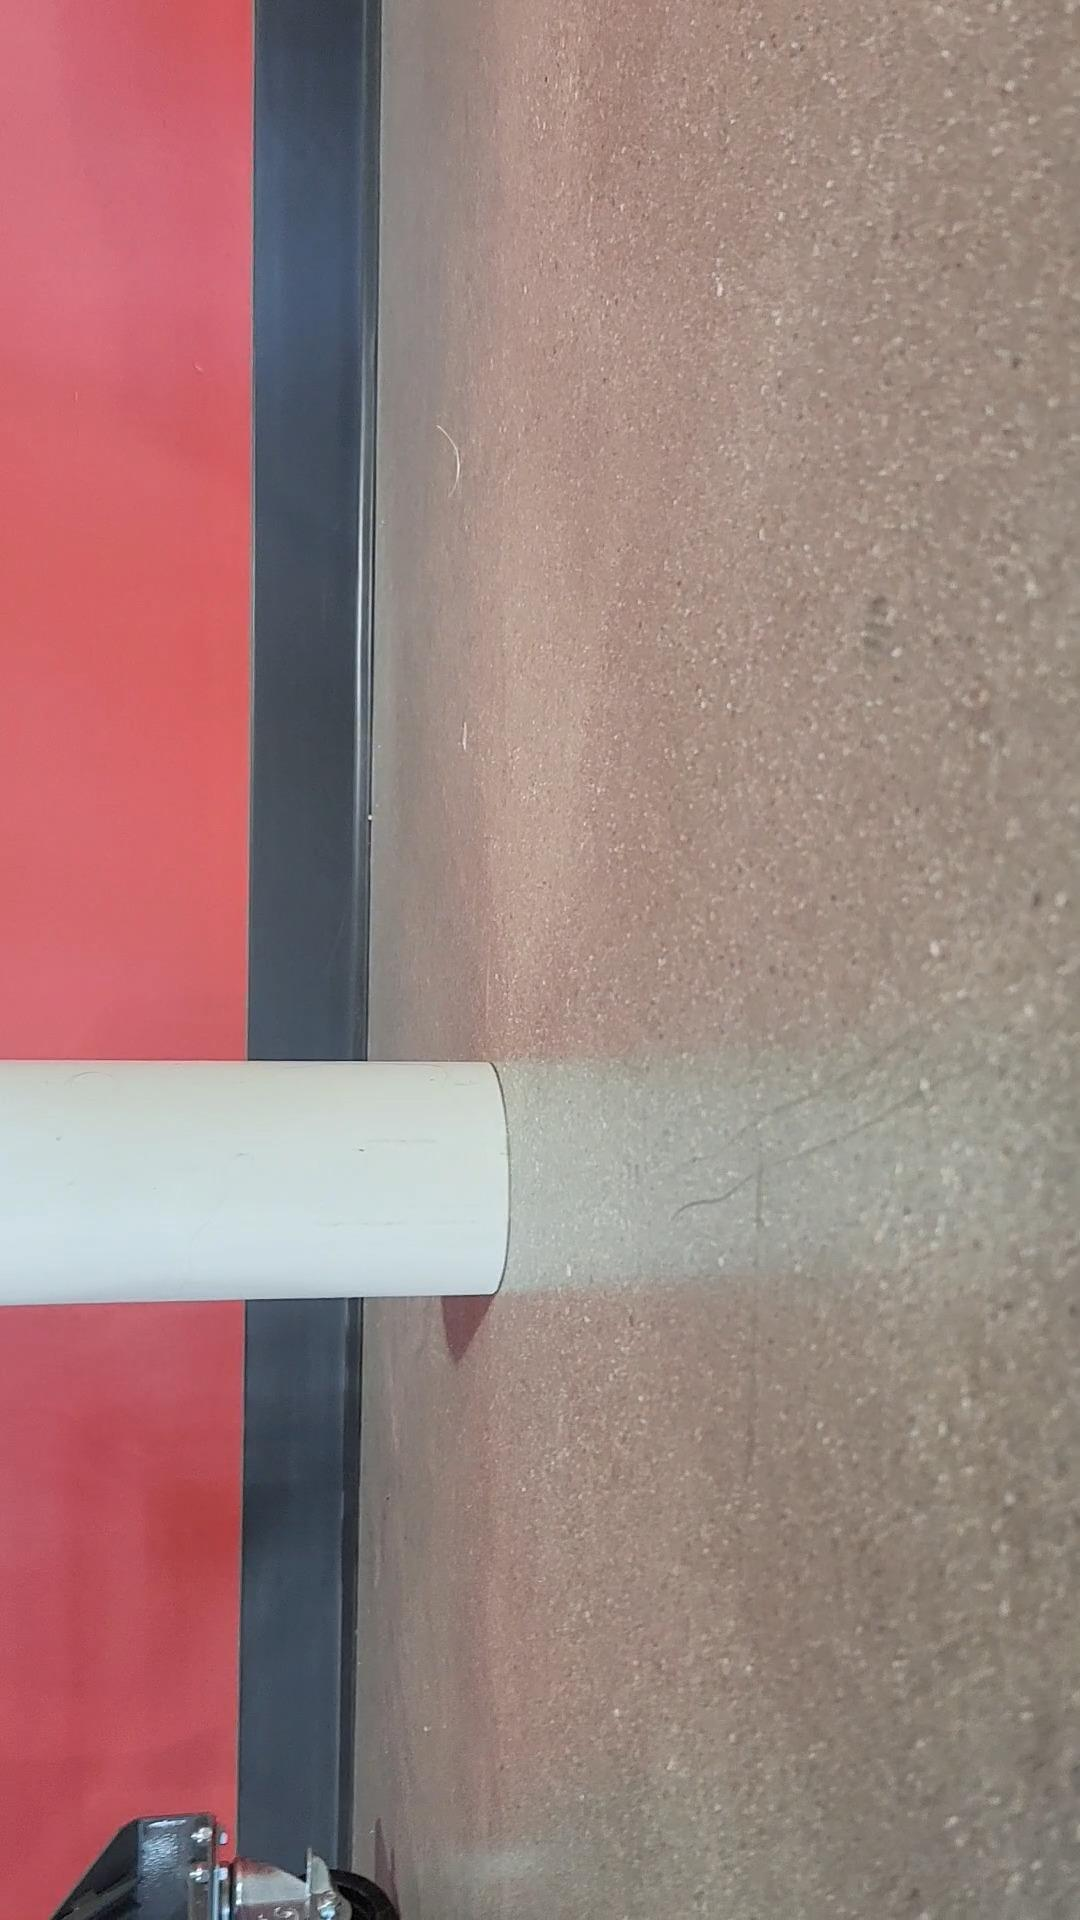coral: (0, 1060, 510, 1303)
